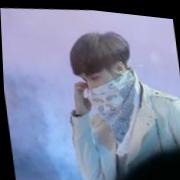WRONG: (80, 58, 122, 105)
